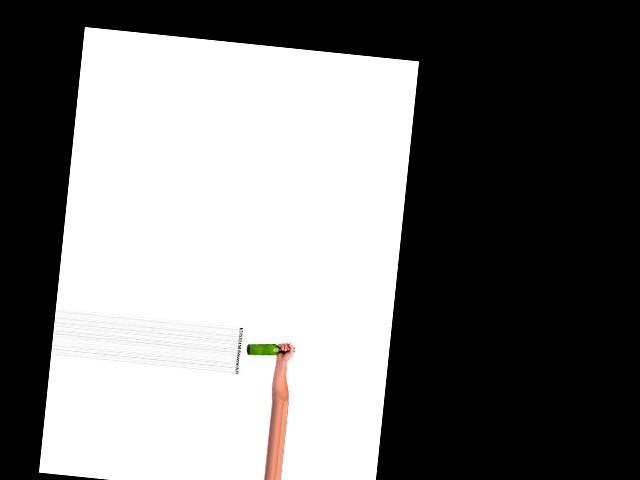beer: (246, 341, 294, 359)
